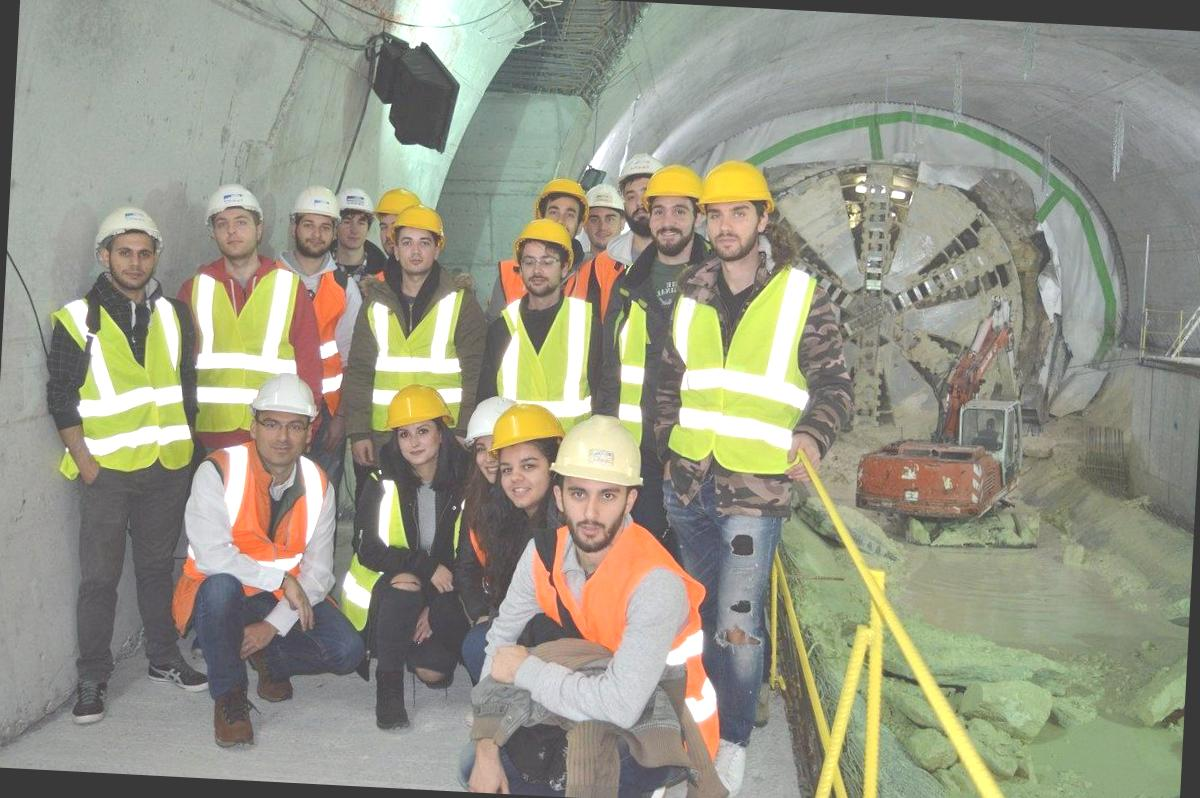helmet: (546, 409, 651, 502), (483, 396, 568, 478), (692, 156, 781, 232), (86, 202, 172, 277), (379, 378, 462, 450), (242, 368, 323, 438), (503, 212, 580, 279), (199, 180, 268, 243), (386, 201, 454, 263), (639, 161, 702, 217), (286, 178, 346, 234)
person: (660, 153, 850, 665), (32, 199, 206, 726), (168, 360, 349, 762), (338, 376, 474, 738)
